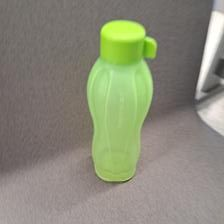bottle: (89, 20, 153, 182)
